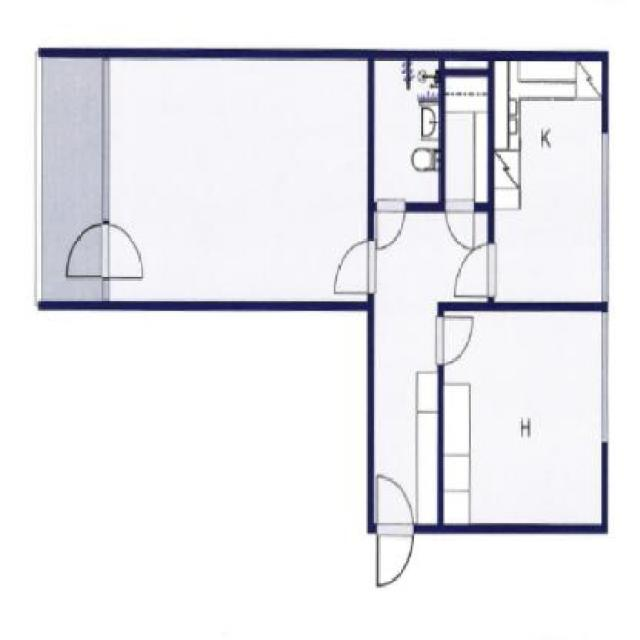door: (66, 218, 145, 282), (376, 472, 416, 592), (325, 235, 377, 300), (451, 245, 495, 303), (374, 195, 412, 260), (435, 317, 474, 369), (446, 198, 479, 257)
window: (100, 58, 112, 302), (603, 132, 611, 305), (602, 316, 608, 444)
zone: (40, 56, 368, 304), (375, 209, 483, 526), (445, 309, 600, 522), (496, 60, 602, 302), (374, 59, 438, 203), (443, 60, 491, 203)
